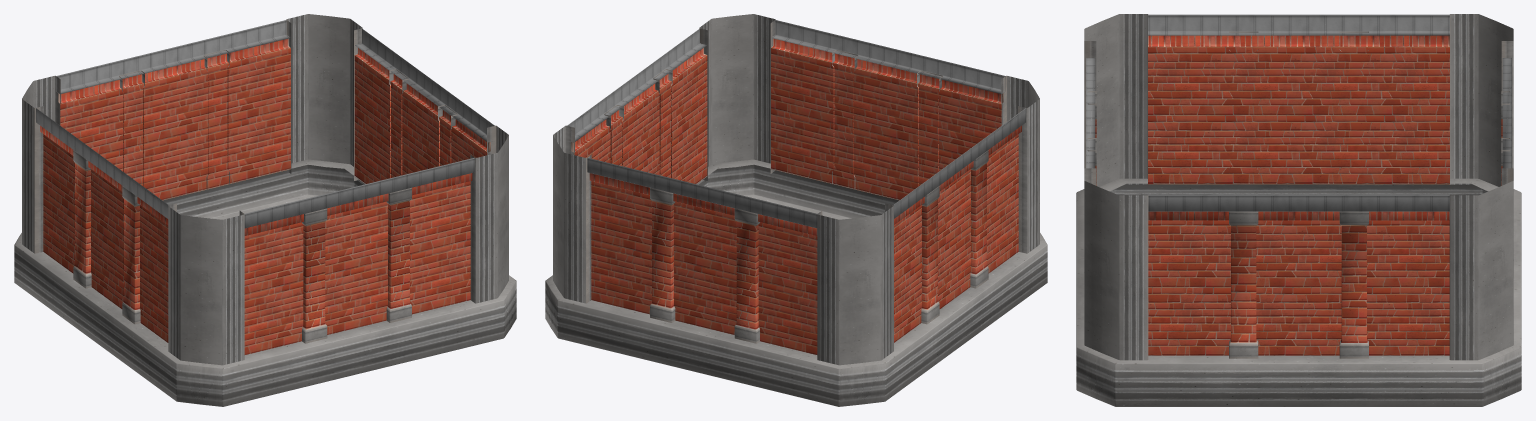
File: SM_Facade_01a.fbx
3 views of the same model, side by side, from view 1: azimuth 30°, elevation 25°; view 2: azimuth 150°, elevation 25°; view 3: azimuth 270°, elevation 25° (orthographic). The views are drawn at different scales.
Parts seen in each view (by area): view 1: SM_Facade_01a; view 2: SM_Facade_01a; view 3: SM_Facade_01a.
Boxes of the visible parts, <box> form: SM_Facade_01a: <box>14,14,516,406</box>; SM_Facade_01a: <box>545,14,1047,406</box>; SM_Facade_01a: <box>1076,14,1521,406</box>.
Bounding box in the file's own units: 850 × 850 × 439.
